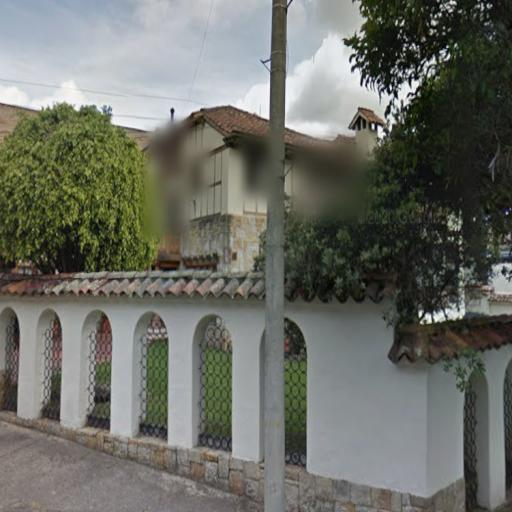Casa: (142, 103, 392, 501)
postes: (258, 0, 294, 512)
